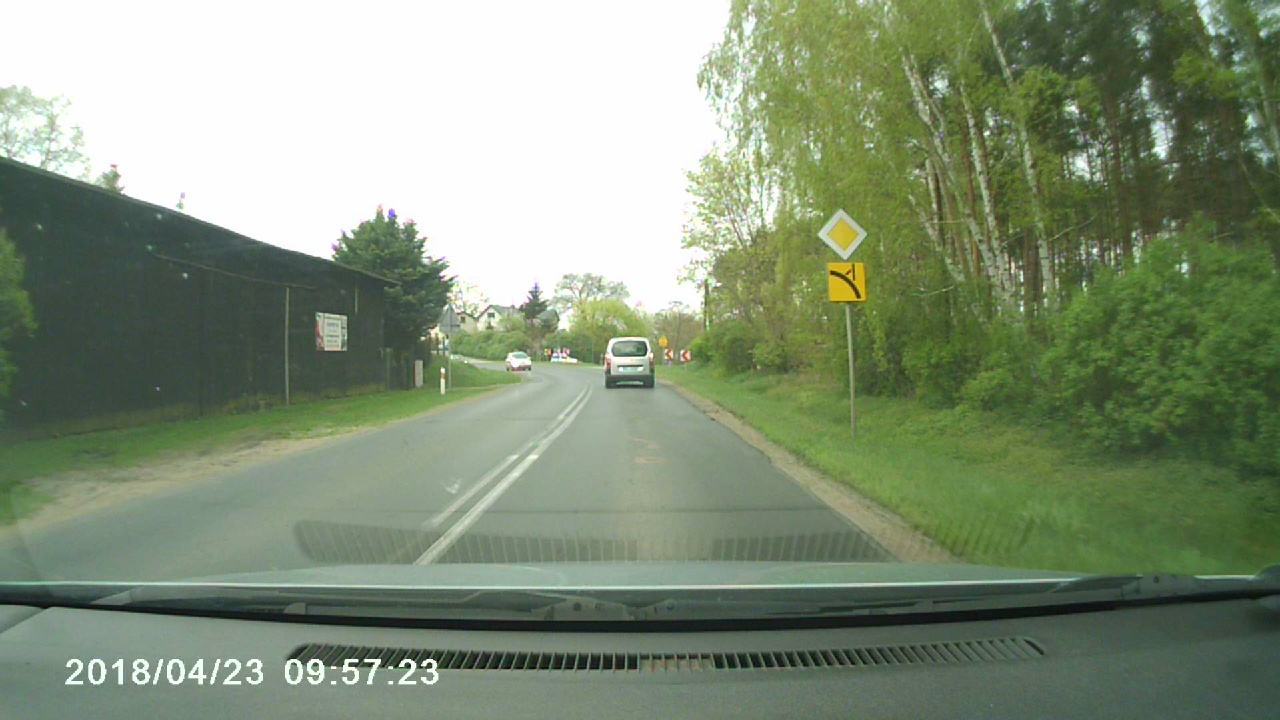D1: (818, 209, 868, 261)
